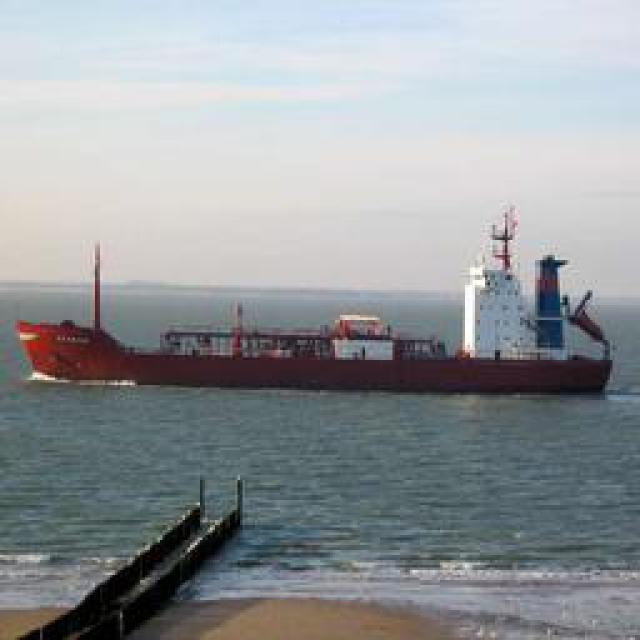Ship: (17, 277, 625, 397)
